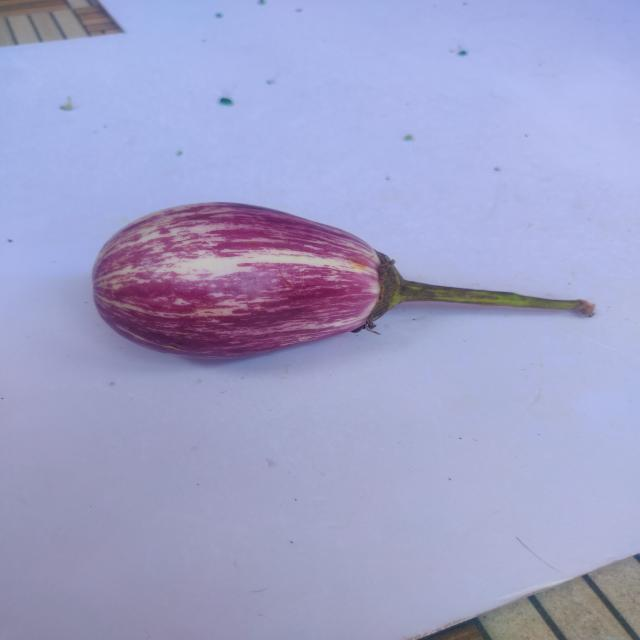Eggplant: (84, 190, 604, 368)
